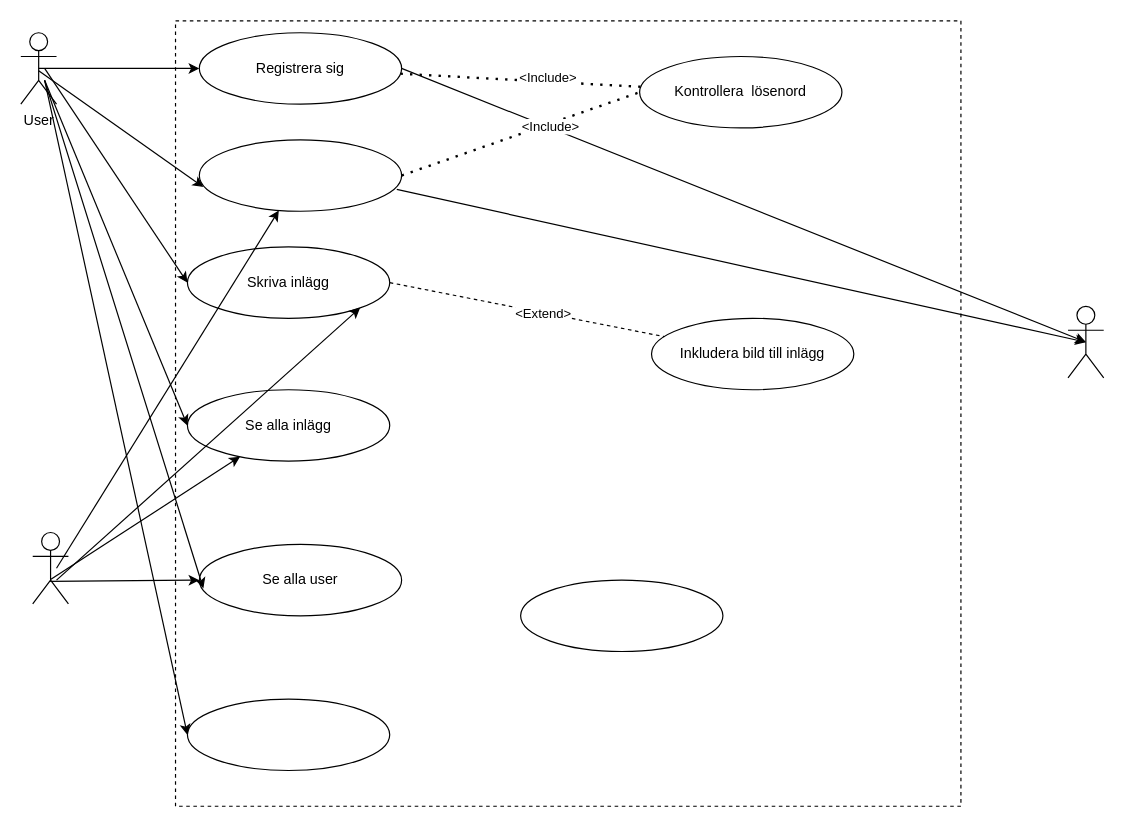
Image size: 1133x827. Some labels were removed from this diagram. Each missing label, with the box of its shape:
Admin: (32, 531, 68, 604)
Databas: (1067, 305, 1104, 378)
Logga in: (198, 139, 402, 211)
Radera inlägg: (186, 698, 390, 771)
